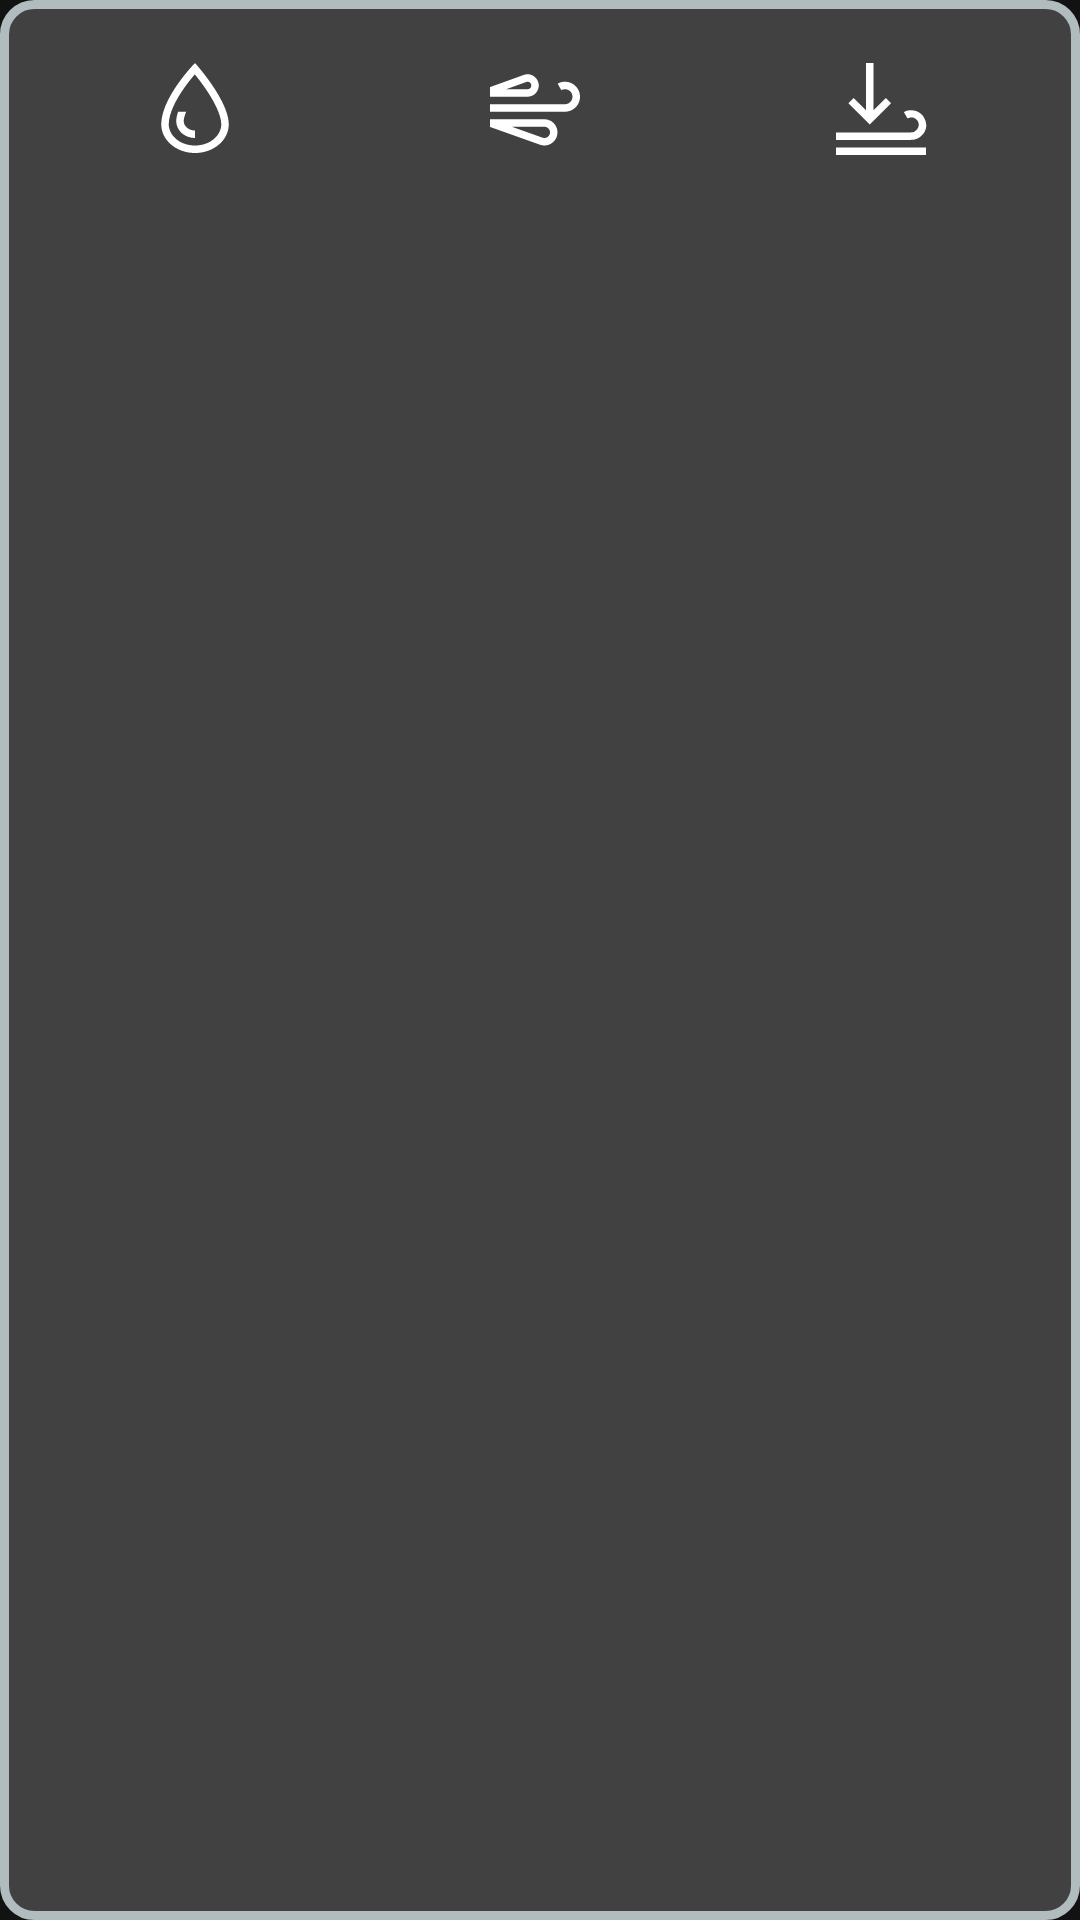

Icon click points for this 1080*1920 phone screenshot, format (x=x, y=y):
humidity: (x=195, y=108)
pressure: (x=881, y=109)
wind: (x=535, y=110)
